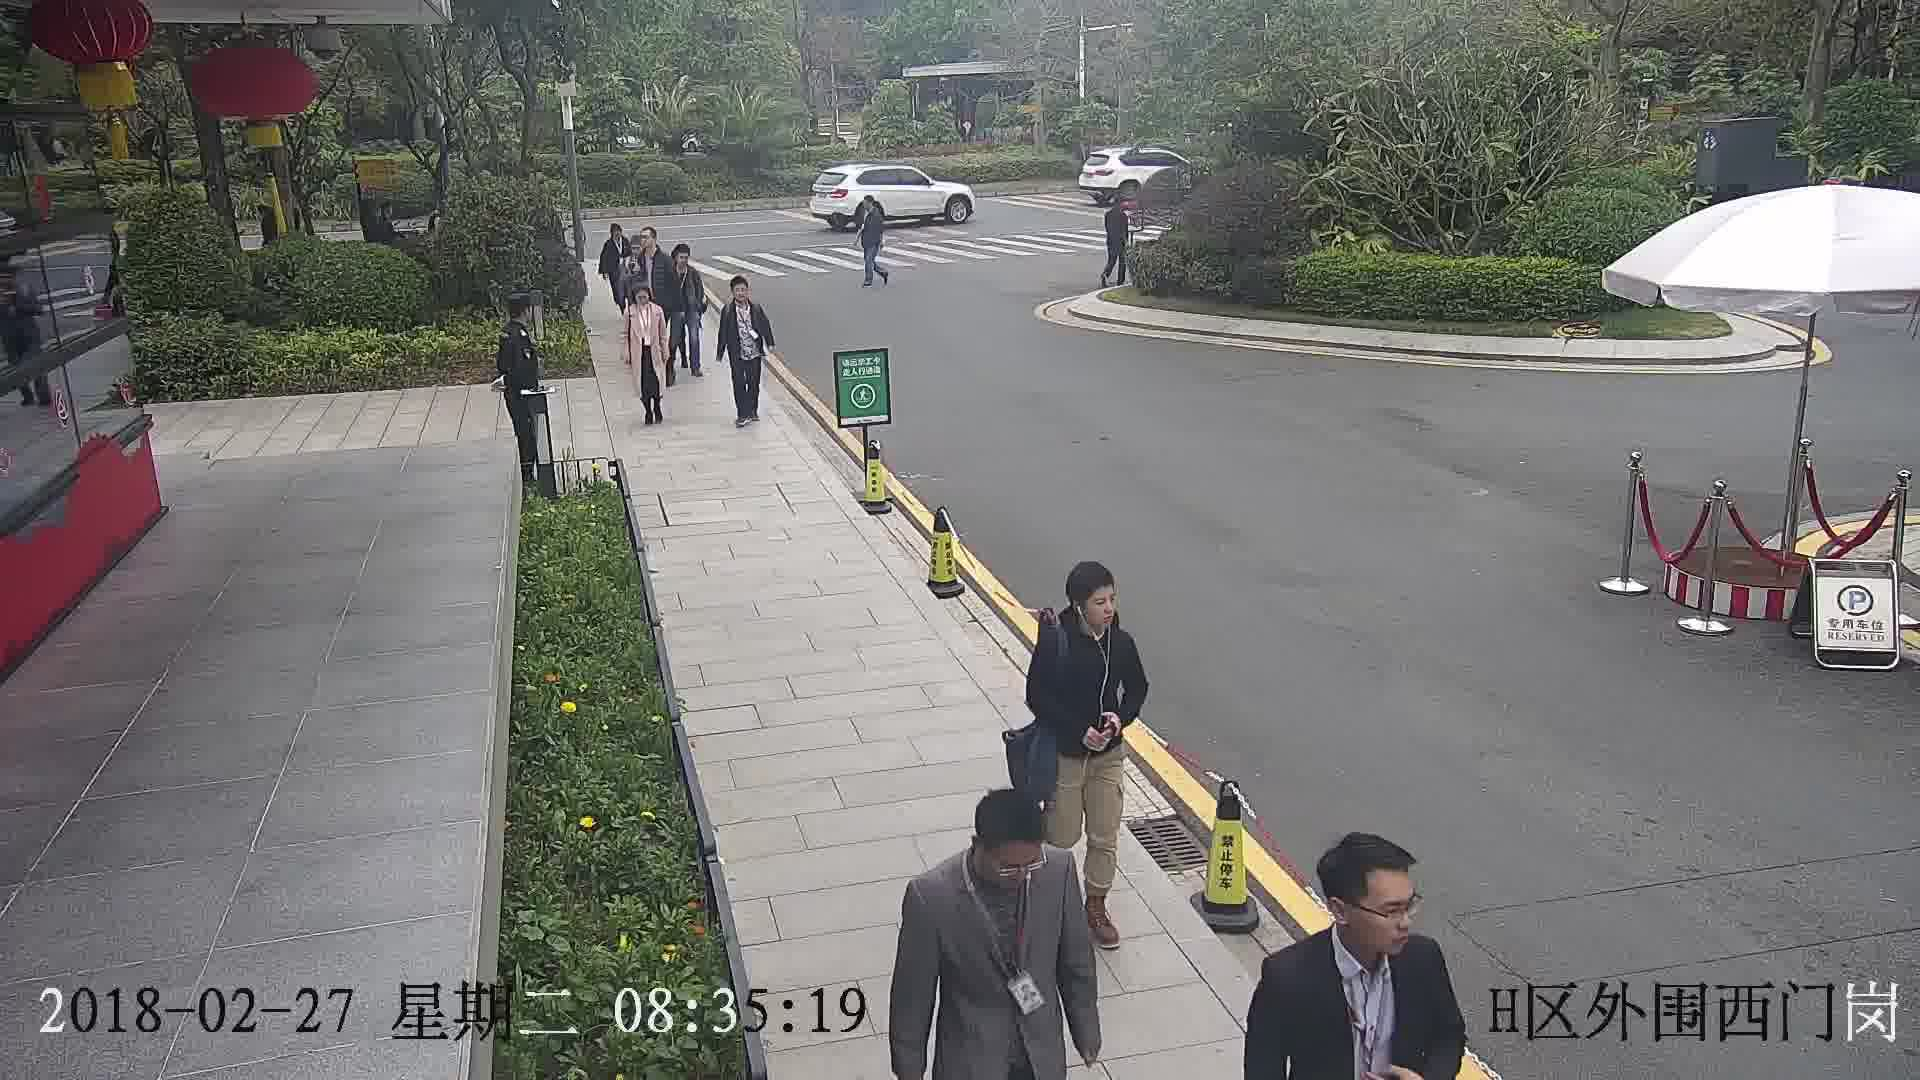face: (1336, 867, 1424, 955), (987, 839, 1037, 889), (1077, 582, 1118, 633)
person: (1254, 834, 1454, 1018), (902, 788, 1072, 925), (1025, 558, 1136, 671), (500, 294, 536, 349), (721, 273, 766, 315), (668, 241, 701, 278), (628, 281, 664, 314), (637, 226, 668, 260), (602, 219, 630, 251), (1105, 191, 1138, 214), (857, 191, 881, 222)
